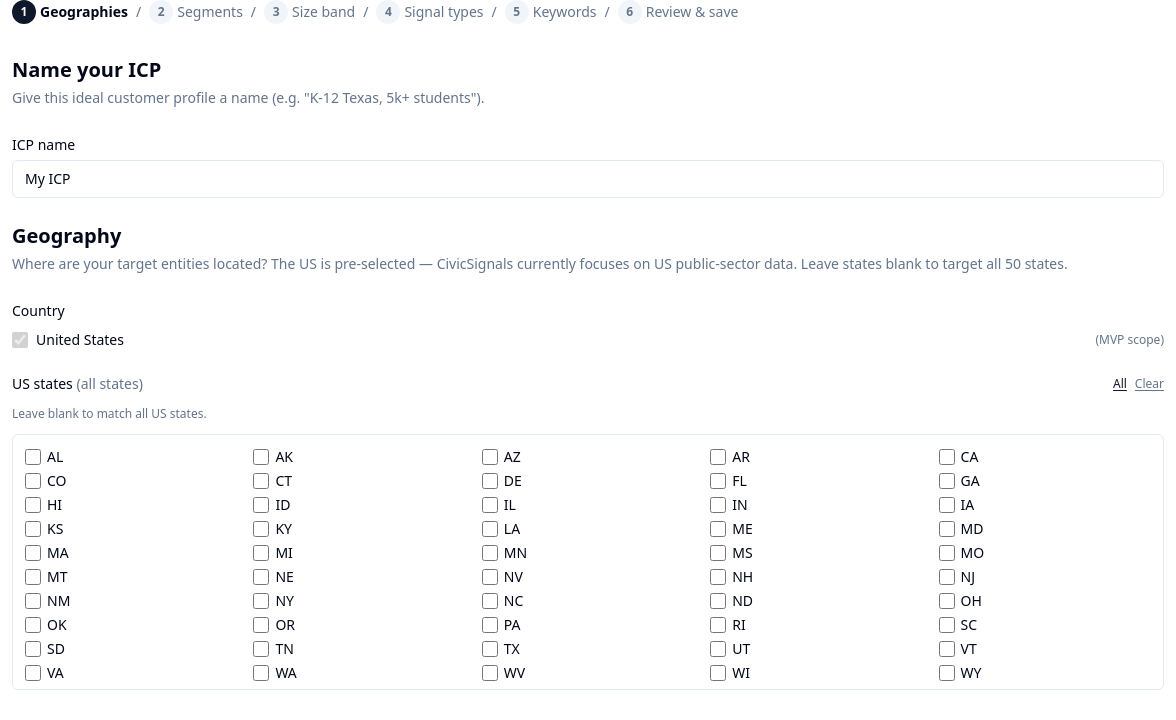
IcpWizard — step navigation › advances from geography → segments when Continue is clicked with a valid name
In the field labelled "ICP name": [588, 179] box [12,160,1164,198], type "Test ICP"
(page scrolled)
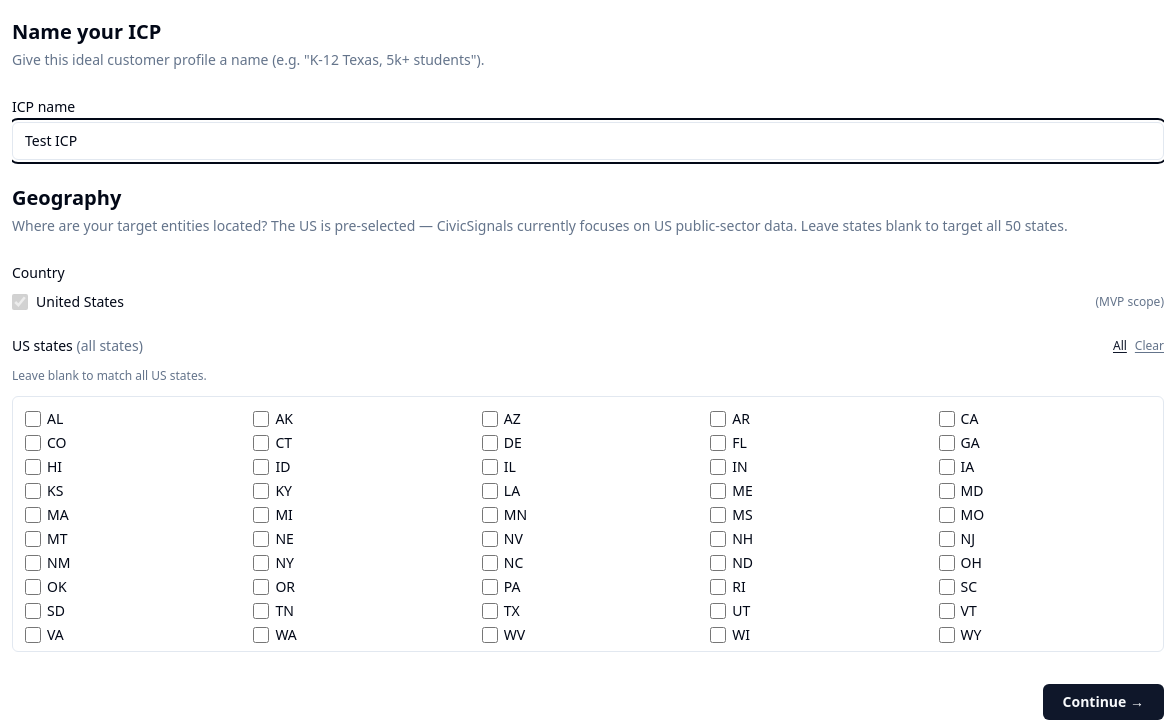
Click the button "Continue →": [1103, 702] box [1042,684,1164,719]
(page scrolled)
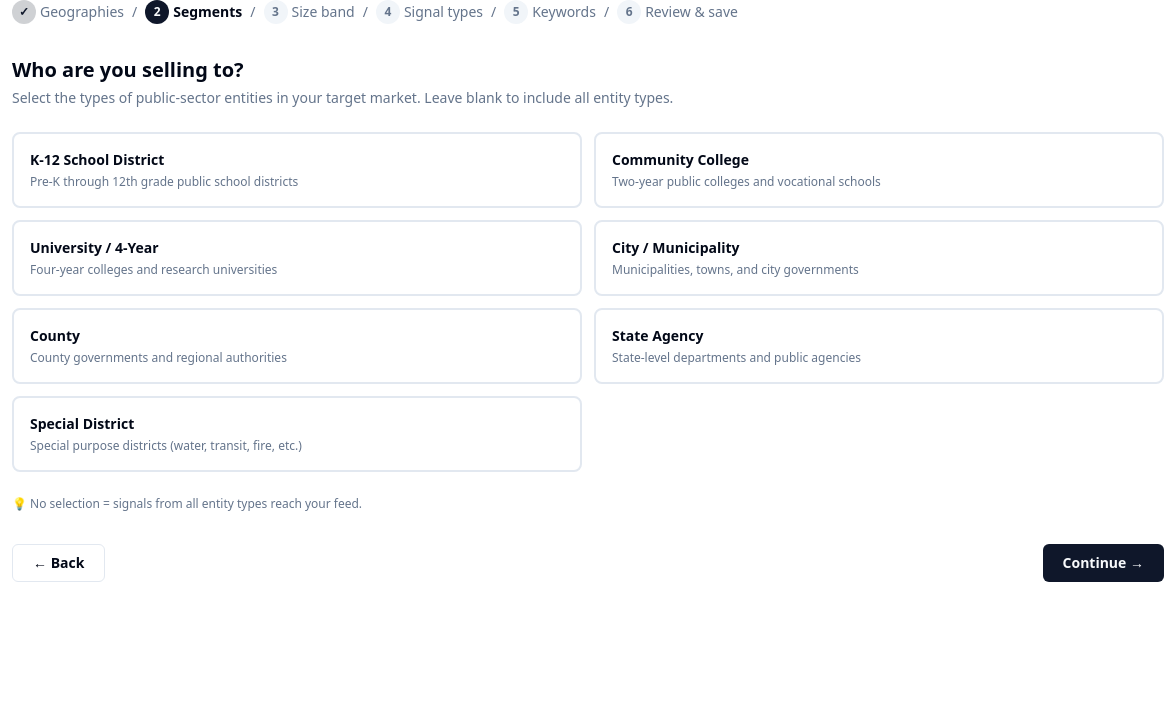
expect the heading "Who are you selling to?" is shown: met, box [12,56,244,83]
